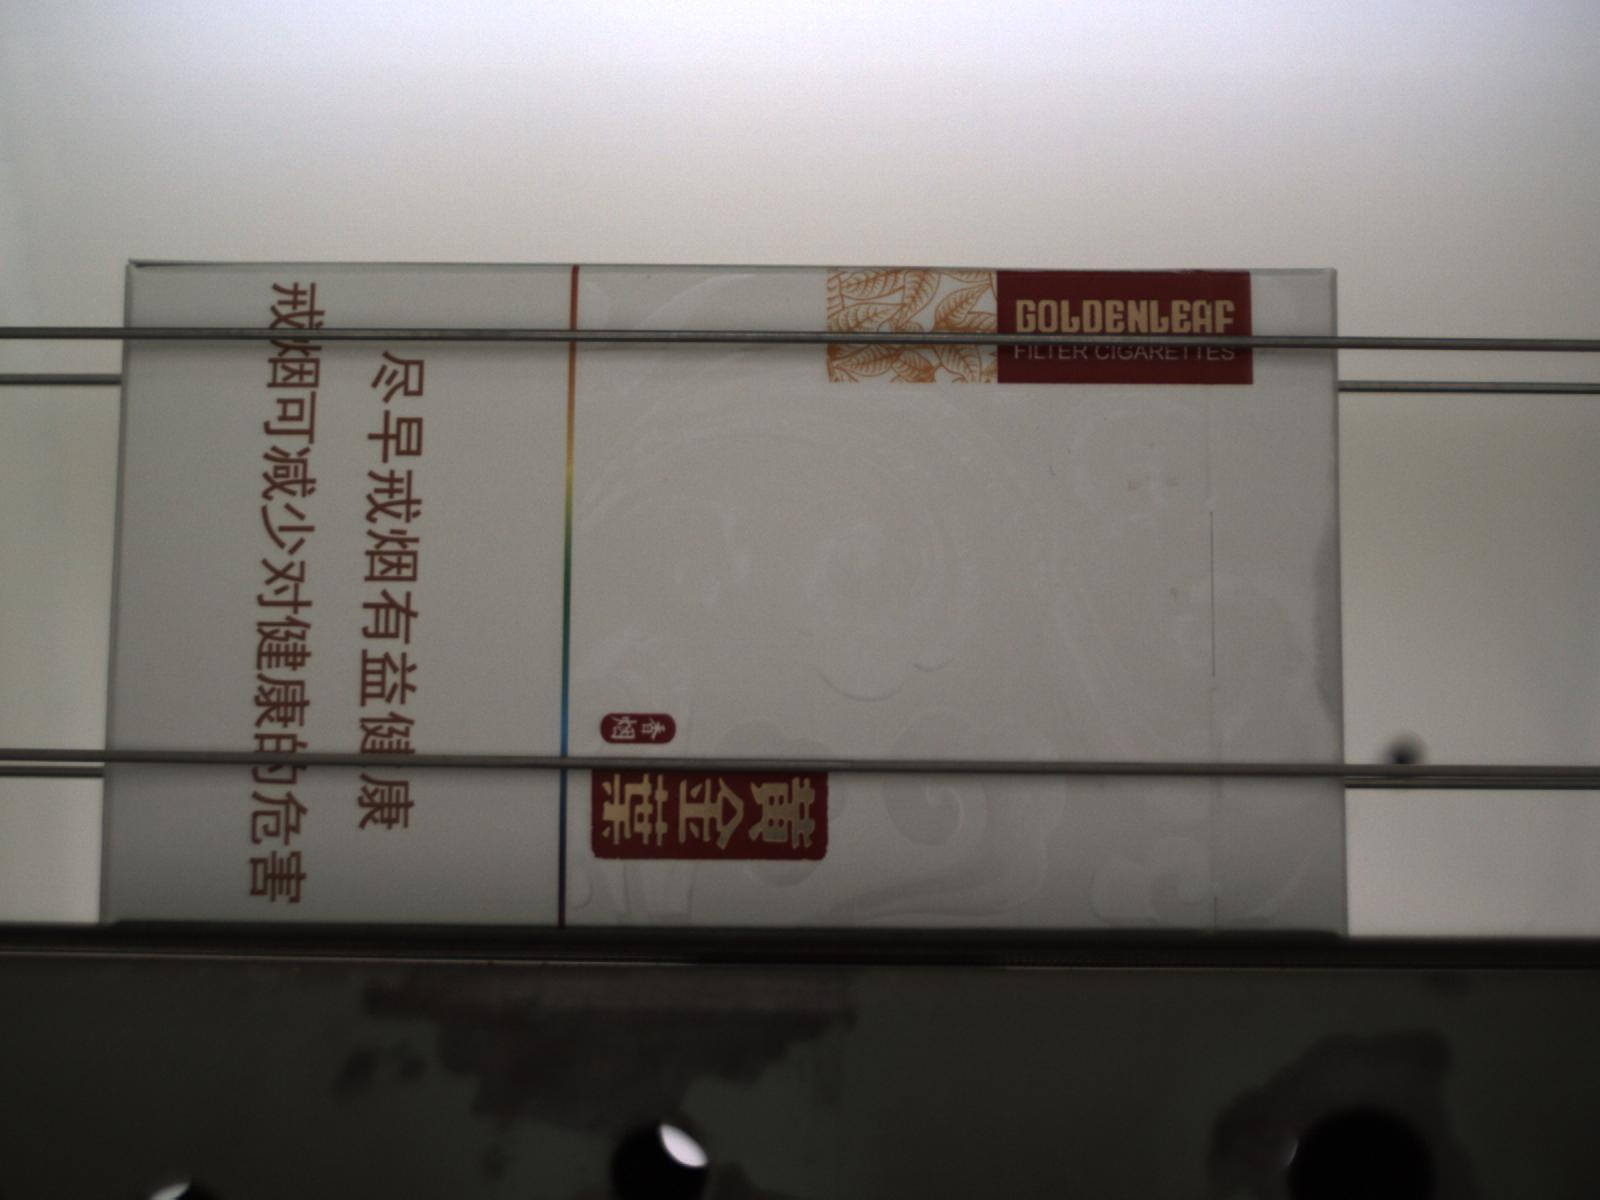areaOil: (1306, 517, 1351, 734)
dirtySpot: (644, 272, 654, 284)
